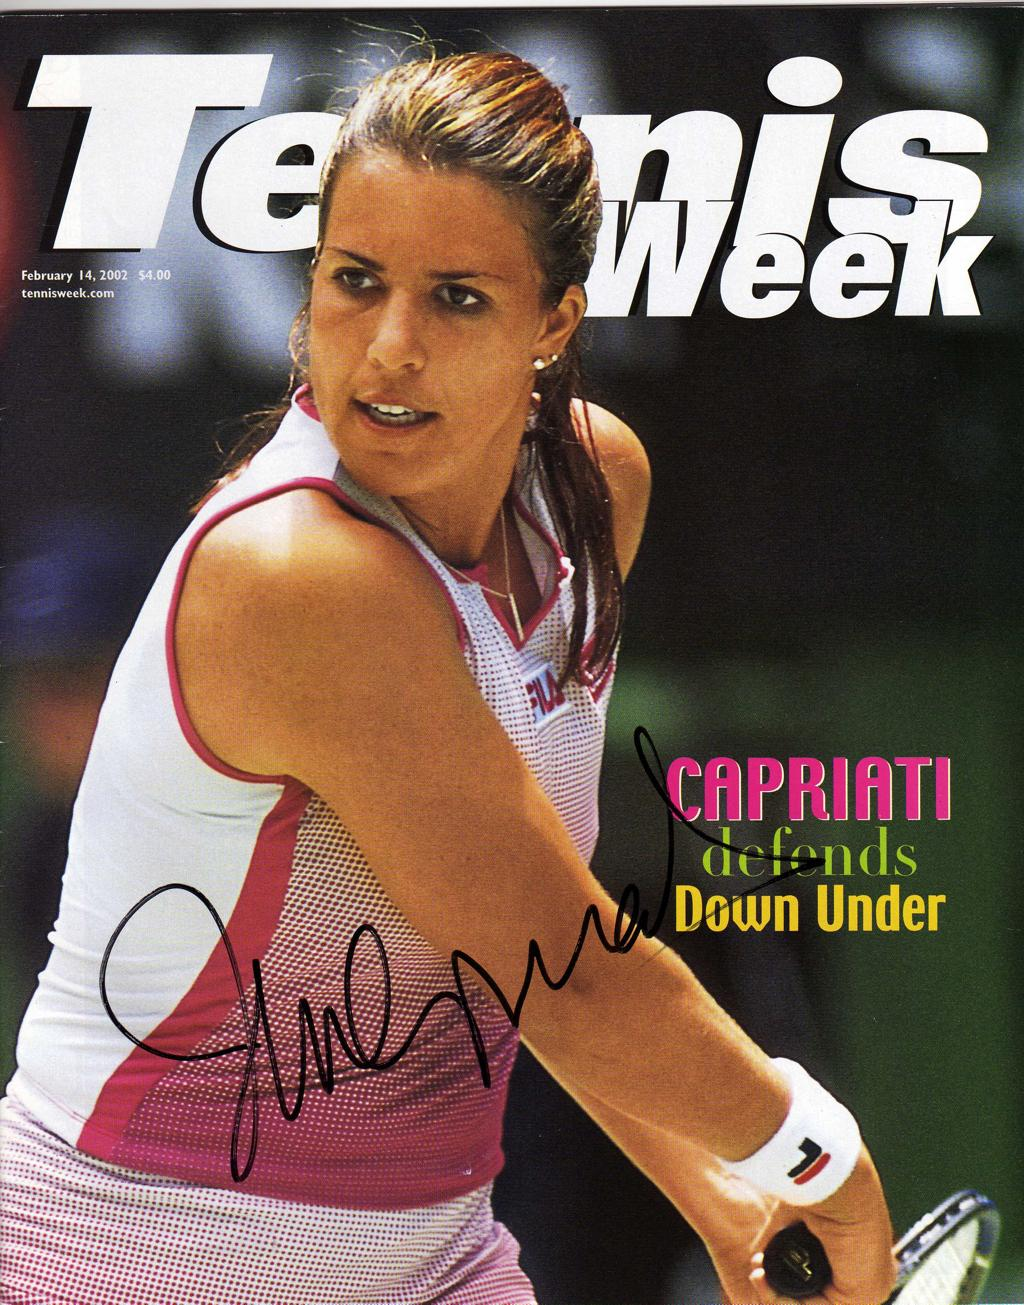face: (313, 150, 535, 491)
